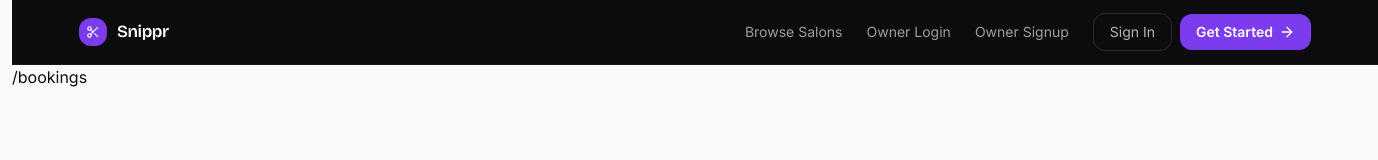
Header — signed out › Owner Login → /owner-login (unchanged destination)
Step 1. Click the button "Owner Login" → x=909, y=32, box [866,22,951,42]
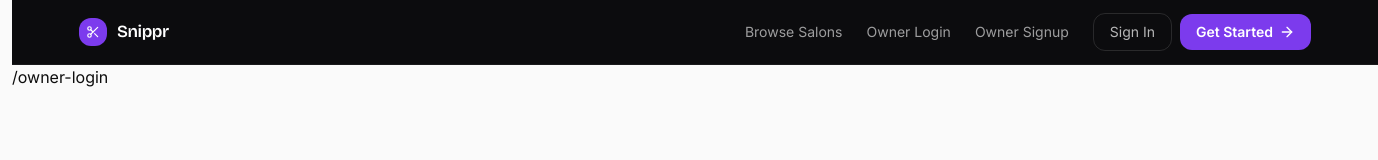
Check: the text with test id "location" reads "/owner-login", box [12,67,108,87]
